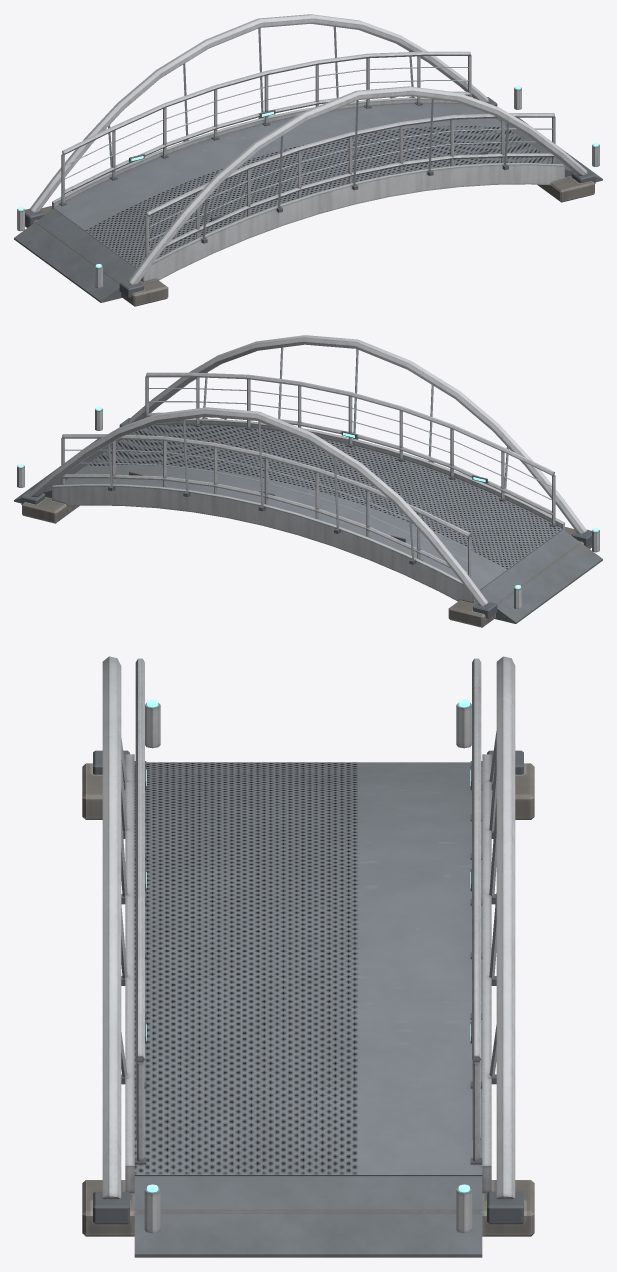
The model's file is puente_peatonal.fbx.
3 views of the same model, one above another, from view 1: azimuth 30°, elevation 25°; view 2: azimuth 150°, elevation 25°; view 3: azimuth 270°, elevation 25° (orthographic). The views are drawn at different scales.
Parts seen in each view (by area): view 1: puente_peatonal; view 2: puente_peatonal; view 3: puente_peatonal.
Boxes of the visible parts, x1,y1,x2,y2 form: puente_peatonal: (14, 14, 602, 306); puente_peatonal: (14, 335, 602, 627); puente_peatonal: (82, 656, 534, 1257).
Size of the model in its own units: 10.04 by 2.95 by 3.9.
2 materials, 1 textured.
